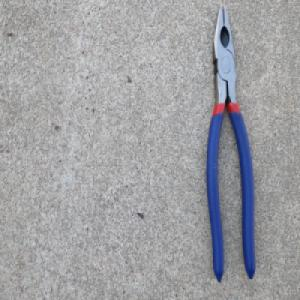Pliers: (203, 4, 257, 285)
